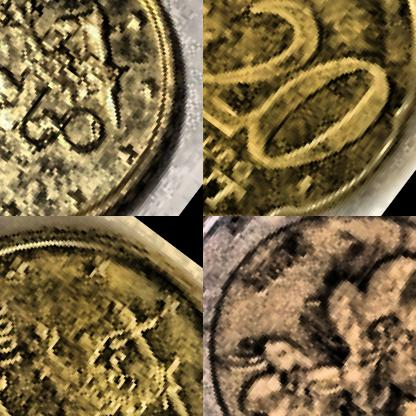coin: (203, 0, 415, 215), (0, 0, 202, 215), (203, 216, 415, 415), (0, 216, 202, 415)
